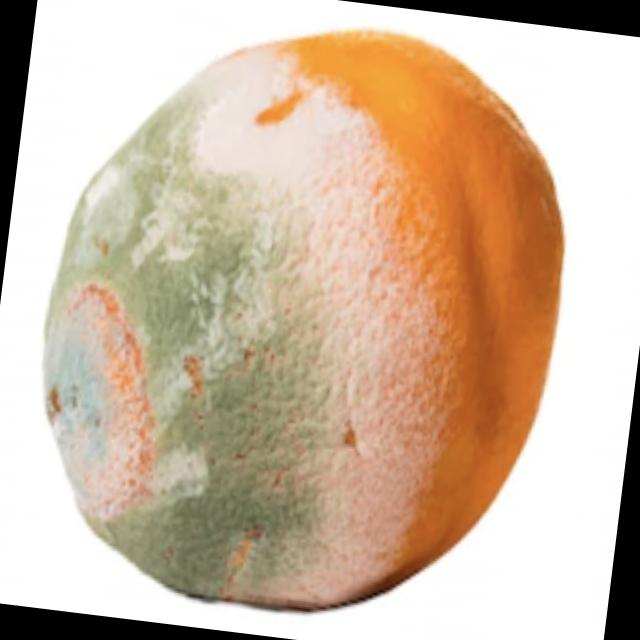rotten-orange: (14, 0, 590, 636)
